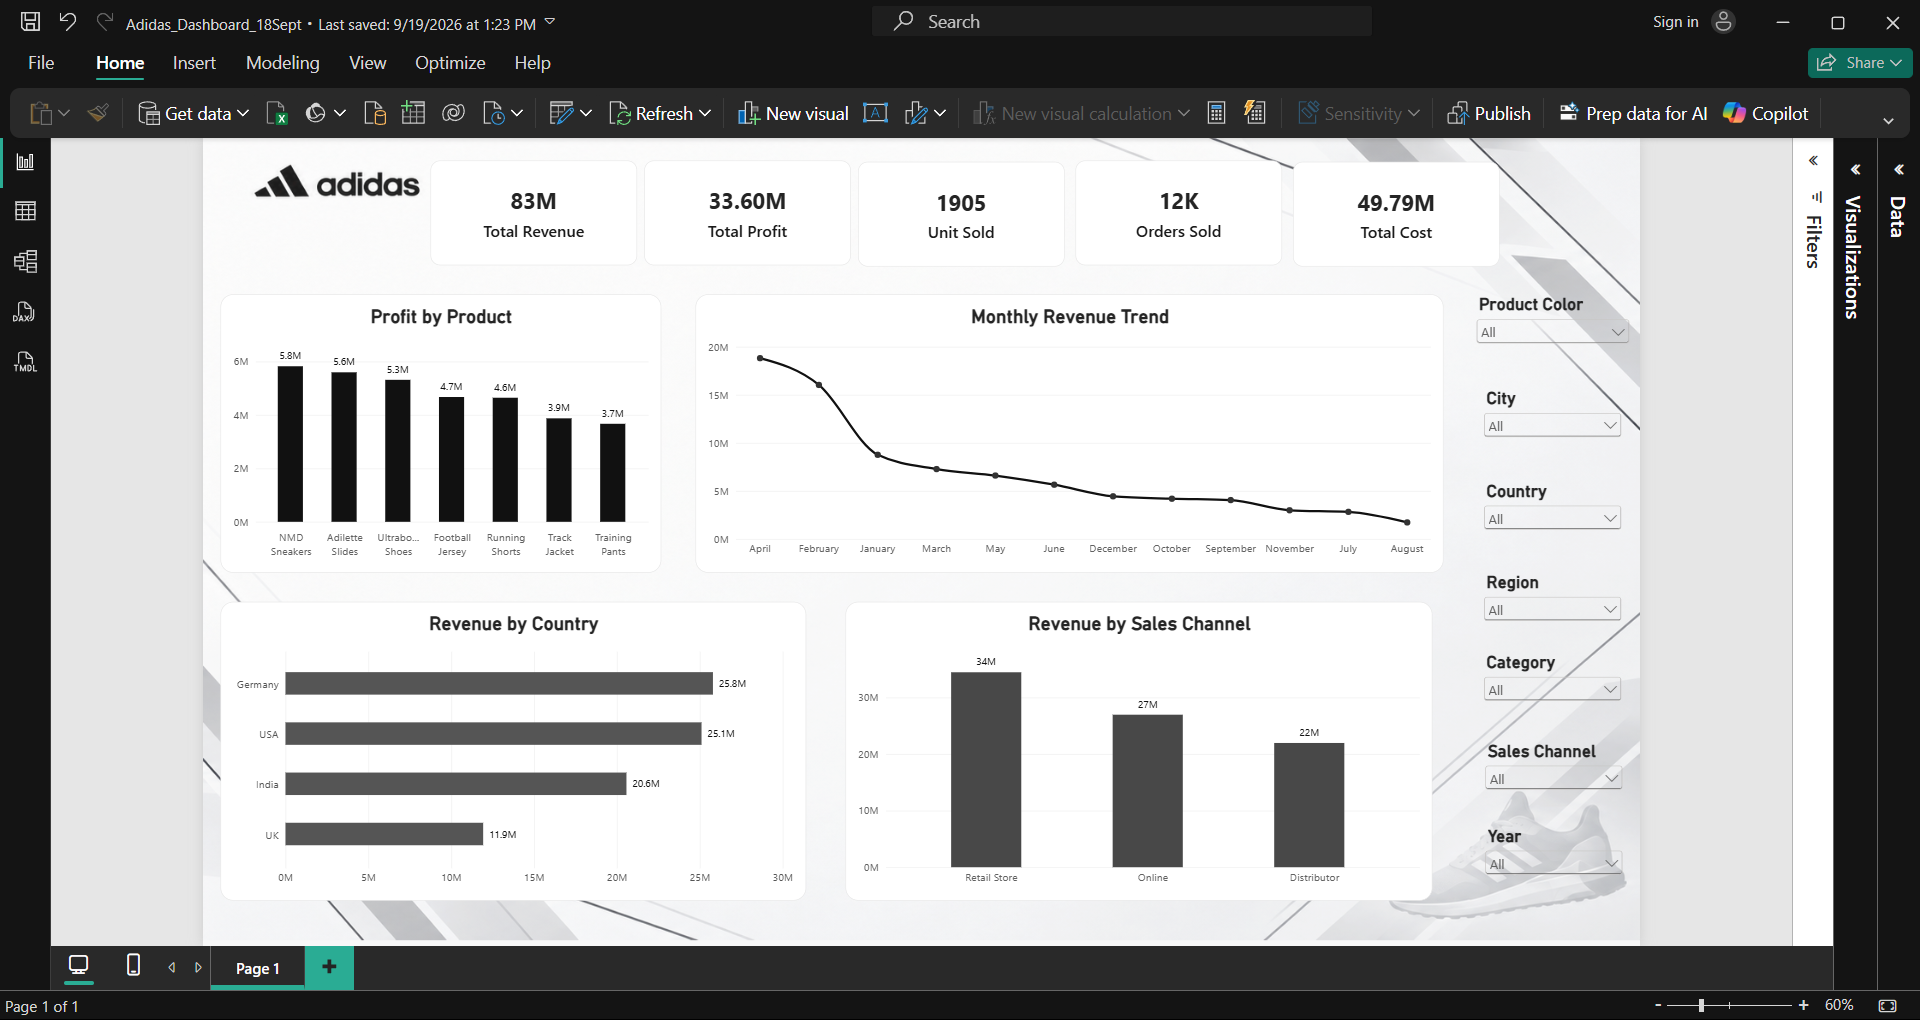

The dashboard page shown, as its layout file describes it:
{"tool":"powerbi","page":{"name":"Page 1","canvas":[1920,1080],"ordinal":0},"visuals":[{"type":"clusteredColumnChart","title":"Profit by Product","fields":{"Category":["adidas_sales_dataset.Product_Name"],"Y":["Sum(adidas_sales_dataset.Profit)"]},"box":[23.9,208,589,371.8],"z":0},{"type":"lineChart","title":"Monthly Revenue Trend","fields":{"Category":["adidas_sales_dataset.Month"],"Y":["Sum(adidas_sales_dataset.Total_Revenue)"]},"box":[657.1,208,999.4,371.8],"z":1000},{"type":"clusteredBarChart","title":"Revenue by Country","fields":{"Category":["adidas_sales_dataset.Country"],"Y":["Sum(adidas_sales_dataset.Total_Revenue)"]},"box":[23.9,620.2,782.2,399.4],"z":2000},{"type":"card","title":"Total Revenue","fields":{"Values":["Sum(adidas_sales_dataset.Total_Revenue)"]},"box":[303.7,29.4,276.1,139.9],"z":3000},{"type":"card","fields":{"Values":["Sum(adidas_sales_dataset.Profit)"]},"box":[589,29.4,276.1,139.9],"z":4000},{"type":"card","fields":{"Values":["Sum(adidas_sales_dataset.Discount_%)"]},"box":[874.2,31.3,276.1,139.9],"z":5000},{"type":"card","fields":{"Values":["Sum(adidas_sales_dataset.Units_Sold)"]},"box":[1165,29.4,276.1,139.9],"z":6000},{"type":"card","fields":{"Values":["Sum(adidas_sales_dataset.Total_Cost)"]},"box":[1455.8,31.3,276.1,139.9],"z":7000},{"type":"slicer","fields":{"Values":["adidas_sales_dataset.Country"]},"box":[1706.1,458.3,193.3,81],"z":8000},{"type":"slicer","fields":{"Values":["adidas_sales_dataset.Region"]},"box":[1706.1,579.8,193.3,77.3],"z":9000},{"type":"slicer","fields":{"Values":["adidas_sales_dataset.Category"]},"box":[1706.1,686.5,193.3,71.8],"z":10000},{"type":"slicer","fields":{"Values":["adidas_sales_dataset.Sales_Channel"]},"box":[1708,804.3,193.3,86.5],"z":11000},{"type":"clusteredColumnChart","title":"Revenue by Sales Channel","fields":{"Category":["adidas_sales_dataset.Sales_Channel"],"Y":["Sum(adidas_sales_dataset.Total_Revenue)"]},"box":[857.7,620.2,784.1,399.4],"z":12000},{"type":"slicer","fields":{"Values":["adidas_sales_dataset.Year"]},"box":[1708,918.4,193.3,75.5],"z":12001},{"type":"slicer","fields":{"Values":["adidas_sales_dataset.City"]},"box":[1706.1,333.1,193.3,88.3],"z":12002},{"type":"slicer","fields":{"Values":["adidas_sales_dataset.Product_Color"]},"box":[1696.9,208,213.5,88.3],"z":12003}]}

Visuals, with their boxes on the page's 1920x1080 design canvas (x1, y1, x2, y2). These are canvas units, not pixel positions in the 1920x1020 screenshot, which may show the page scaled, cropped or inside an application window:
"Profit by Product" clusteredColumnChart: locate(24, 208, 613, 580)
"Monthly Revenue Trend" lineChart: locate(657, 208, 1656, 580)
"Revenue by Country" clusteredBarChart: locate(24, 620, 806, 1020)
"Total Revenue" card: locate(304, 29, 580, 169)
card - Sum(adidas_sales_dataset.Profit): locate(589, 29, 865, 169)
card - Sum(adidas_sales_dataset.Discount_%): locate(874, 31, 1150, 171)
card - Sum(adidas_sales_dataset.Units_Sold): locate(1165, 29, 1441, 169)
card - Sum(adidas_sales_dataset.Total_Cost): locate(1456, 31, 1732, 171)
slicer - adidas_sales_dataset.Country: locate(1706, 458, 1899, 539)
slicer - adidas_sales_dataset.Region: locate(1706, 580, 1899, 657)
slicer - adidas_sales_dataset.Category: locate(1706, 686, 1899, 758)
slicer - adidas_sales_dataset.Sales_Channel: locate(1708, 804, 1901, 891)
"Revenue by Sales Channel" clusteredColumnChart: locate(858, 620, 1642, 1020)
slicer - adidas_sales_dataset.Year: locate(1708, 918, 1901, 994)
slicer - adidas_sales_dataset.City: locate(1706, 333, 1899, 421)
slicer - adidas_sales_dataset.Product_Color: locate(1697, 208, 1910, 296)
